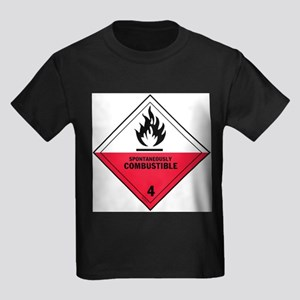SpontaneouslyCombustible: (92, 94, 210, 212)
